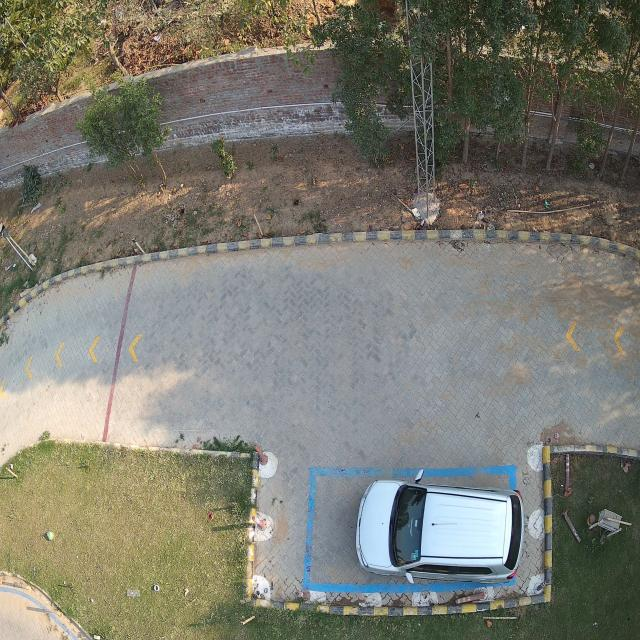car: (355, 470, 525, 583)
